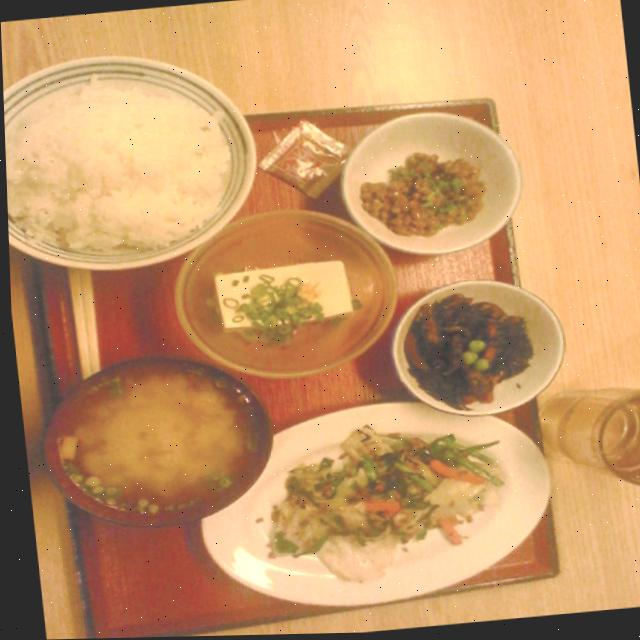蔬菜料理: (232, 411, 559, 595)
